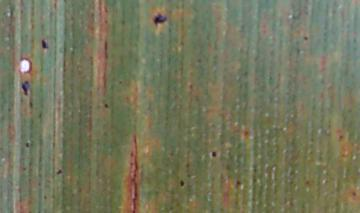tarspot: (20, 79, 32, 96), (151, 13, 168, 25), (288, 168, 297, 178), (40, 39, 48, 50), (234, 178, 242, 188), (286, 199, 296, 207), (54, 167, 62, 176), (242, 129, 250, 138), (223, 162, 231, 171), (27, 99, 34, 109), (178, 178, 185, 188), (301, 34, 309, 41), (210, 150, 217, 158), (337, 133, 344, 141), (304, 178, 311, 186), (167, 205, 175, 212), (294, 46, 301, 54), (241, 70, 249, 77), (218, 205, 225, 213), (195, 57, 202, 64), (119, 18, 126, 25), (36, 111, 43, 118), (184, 160, 191, 167), (252, 166, 259, 173), (251, 176, 258, 183), (168, 150, 175, 157), (76, 186, 83, 193), (24, 140, 30, 148), (178, 40, 186, 46), (21, 165, 27, 172), (102, 18, 108, 25), (117, 78, 123, 85), (351, 190, 357, 197), (187, 83, 193, 90), (5, 106, 12, 112), (185, 172, 192, 178), (37, 180, 43, 187), (351, 36, 357, 43), (309, 136, 315, 143), (250, 195, 256, 202), (288, 179, 295, 185), (89, 10, 95, 17), (69, 15, 75, 22), (49, 193, 56, 199), (322, 35, 328, 42), (103, 102, 109, 108), (42, 194, 47, 201), (324, 170, 329, 176), (323, 178, 329, 183), (322, 30, 327, 36), (19, 9, 23, 15), (61, 1, 68, 4), (251, 164, 257, 167)
